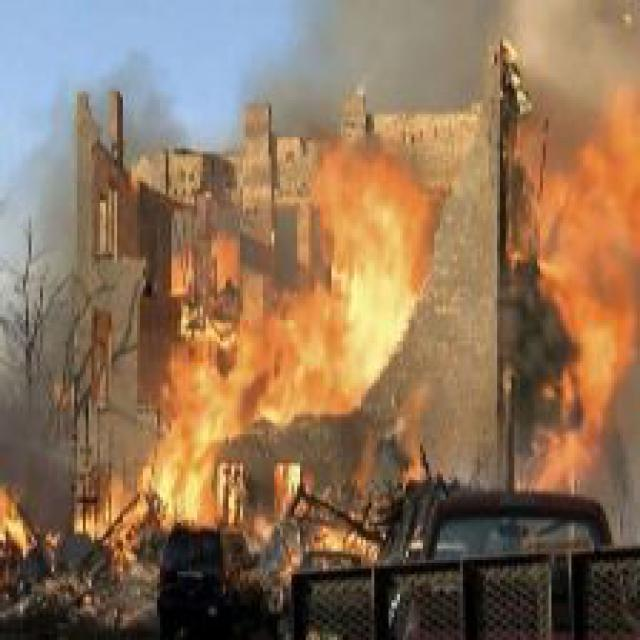fire: (132, 114, 474, 529), (514, 126, 637, 517), (3, 460, 151, 557)
